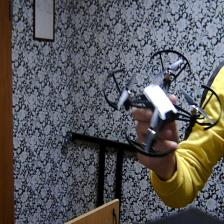drone: (104, 48, 224, 164)
